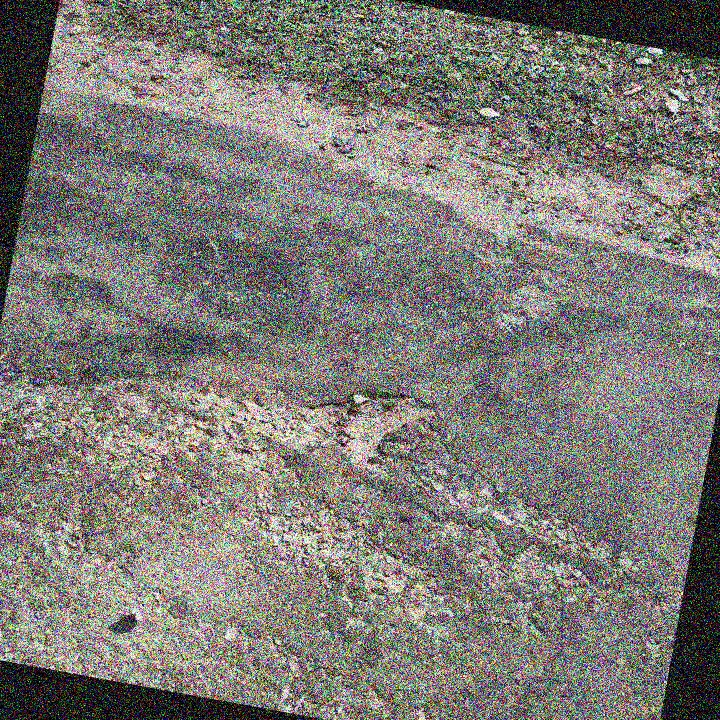pothole: (327, 379, 445, 484)
